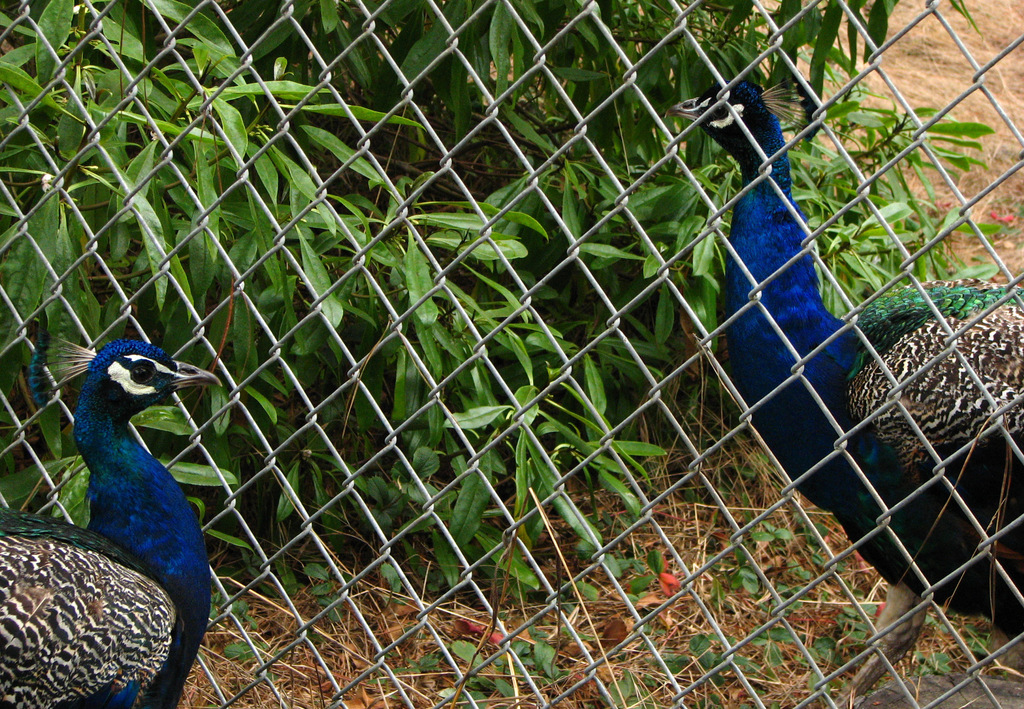Bird: (655, 77, 1024, 707), (0, 340, 223, 709)
